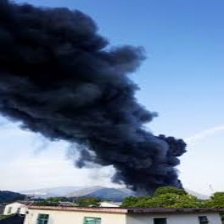smoke: (2, 5, 190, 192)
